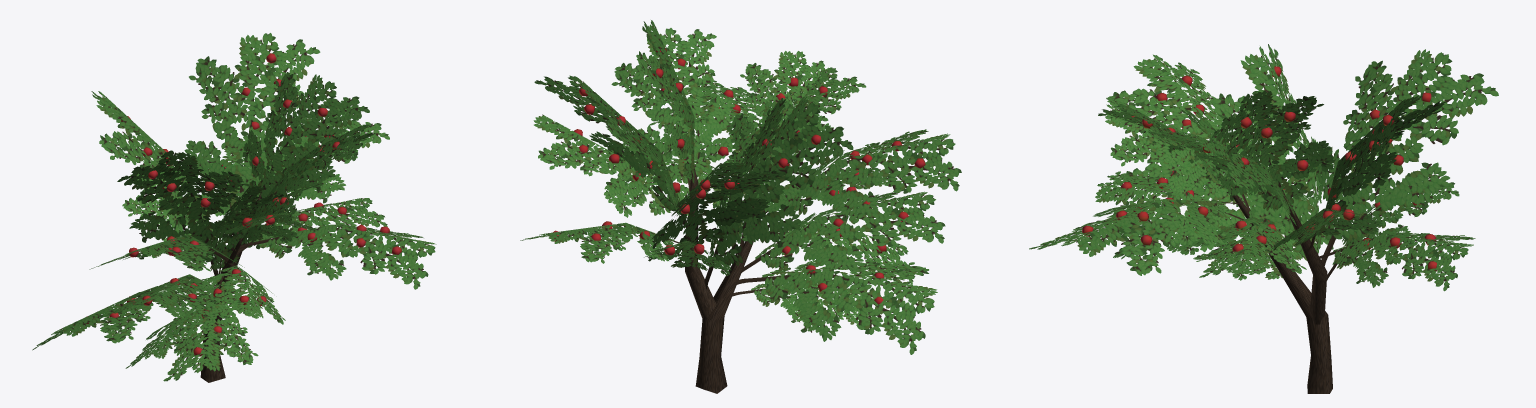
The model's file is Apple01.fbx.
3 views of the same model, side by side, from view 1: azimuth 30°, elevation 25°; view 2: azimuth 150°, elevation 25°; view 3: azimuth 270°, elevation 25° (orthographic). The views are drawn at different scales.
Parts seen in each view (by area): view 1: Apple01; view 2: Apple01; view 3: Apple01.
Part boxes in pixels (left/top/right/bottom): Apple01: left=32, top=33, right=436, bottom=382; Apple01: left=520, top=20, right=961, bottom=393; Apple01: left=1029, top=44, right=1498, bottom=393.
Size of the model in its own units: 922 by 741 by 931.
